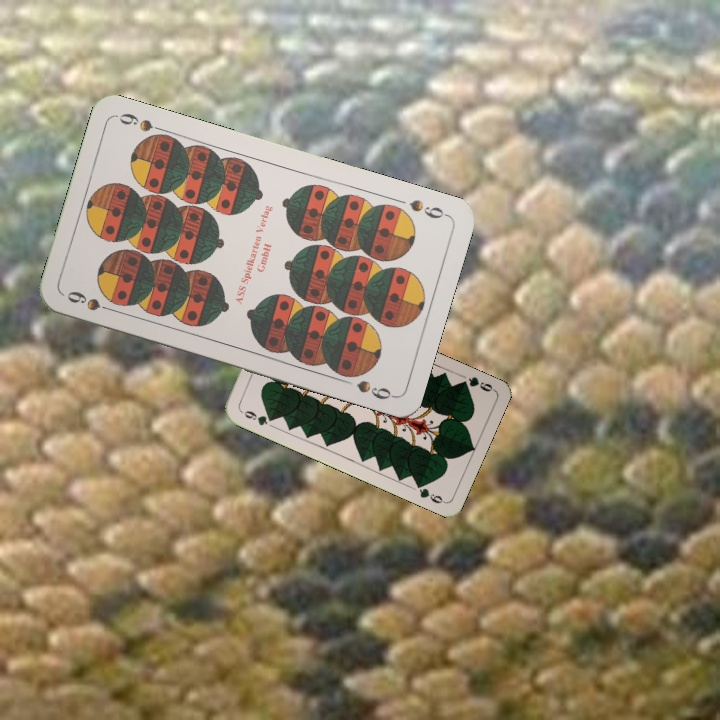G9: (455, 373, 497, 394), (236, 406, 276, 428)
S9: (63, 287, 119, 315), (405, 195, 451, 222)
